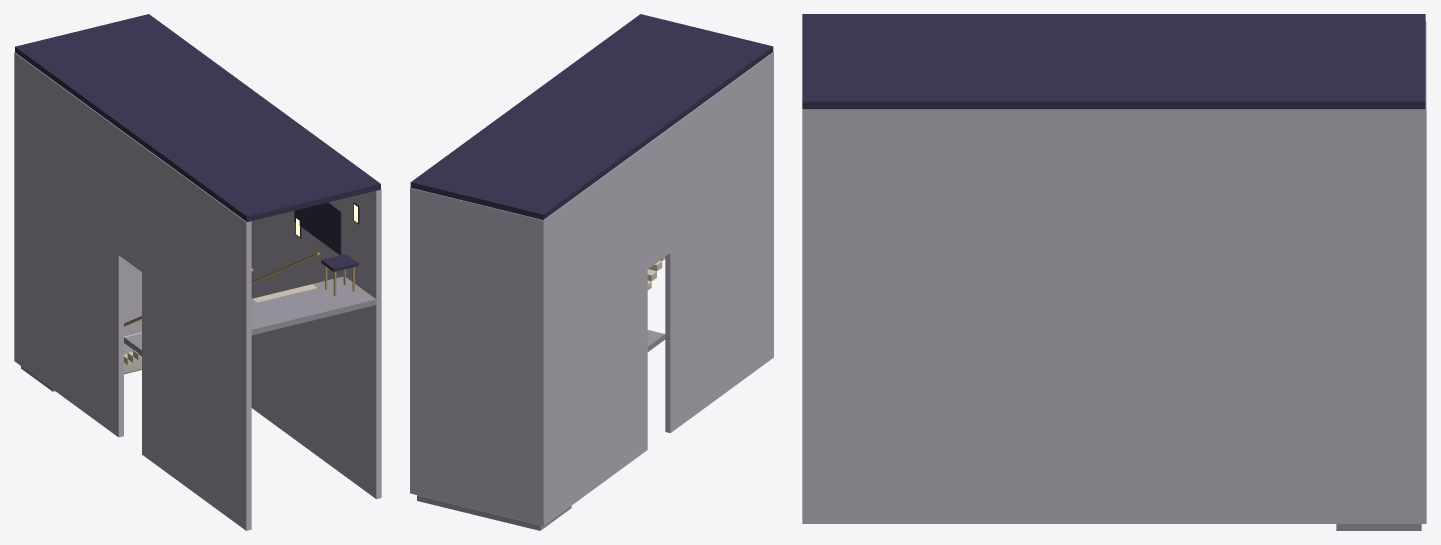
The model's file is lower_stairway.glb.
3 views of the same model, side by side, from view 1: azimuth 30°, elevation 25°; view 2: azimuth 150°, elevation 25°; view 3: azimuth 270°, elevation 25° (orthographic). The views are drawn at different scales.
Parts seen in each view (by area): view 1: stairwell_side_-1_3.3, stairwell_side_-1_-3.3, stairwell_ceiling, stairwell_side_1, stairwell_upper_landing, stairwell_workshop_lintel, stairwell_upper_panel_1_3, stairwell_lower_end, stairwell_upper_table; view 2: stairwell_lower_end, stairwell_side_-1_3.3, stairwell_side_-1_-3.3, stairwell_ceiling, stairwell_workshop_lintel, stairwell_lower_landing; view 3: stairwell_side_1, stairwell_ceiling, stairwell_lower_end.
Part boxes in pixels (bbox=[...]): stairwell_side_-1_3.3: bbox=[142, 146, 251, 530]; stairwell_side_-1_-3.3: bbox=[14, 52, 123, 437]; stairwell_ceiling: bbox=[15, 14, 380, 221]; stairwell_side_1: bbox=[251, 189, 381, 499]; stairwell_upper_landing: bbox=[251, 276, 376, 335]; stairwell_workshop_lintel: bbox=[118, 129, 142, 271]; stairwell_upper_panel_1_3: bbox=[294, 202, 341, 255]; stairwell_lower_end: bbox=[124, 259, 141, 336]; stairwell_upper_table: bbox=[321, 254, 358, 271]; stairwell_lower_end: bbox=[410, 188, 543, 525]; stairwell_side_-1_3.3: bbox=[665, 52, 773, 433]; stairwell_side_-1_-3.3: bbox=[543, 144, 647, 525]; stairwell_ceiling: bbox=[410, 14, 773, 219]; stairwell_workshop_lintel: bbox=[647, 128, 670, 268]; stairwell_lower_landing: bbox=[417, 495, 571, 530]; stairwell_side_1: bbox=[802, 109, 1425, 523]; stairwell_ceiling: bbox=[802, 14, 1425, 109]; stairwell_lower_end: bbox=[1425, 21, 1426, 523].
Bounding box in the file's own units: 4.04 × 9.18 × 12.02.
